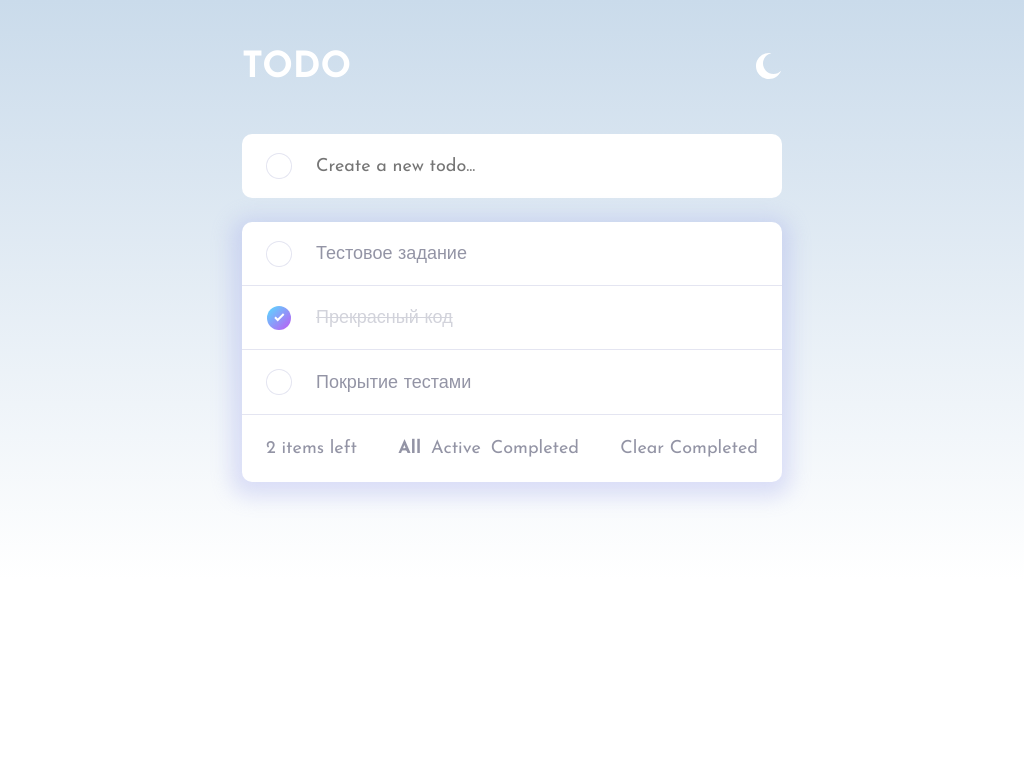
Redux store created from the reducer › AND when a new todo is added › THEN the todo is visible
Type "My first test todo" into the field with test id "input" at coordinates (537, 166), box [316, 156, 758, 176]
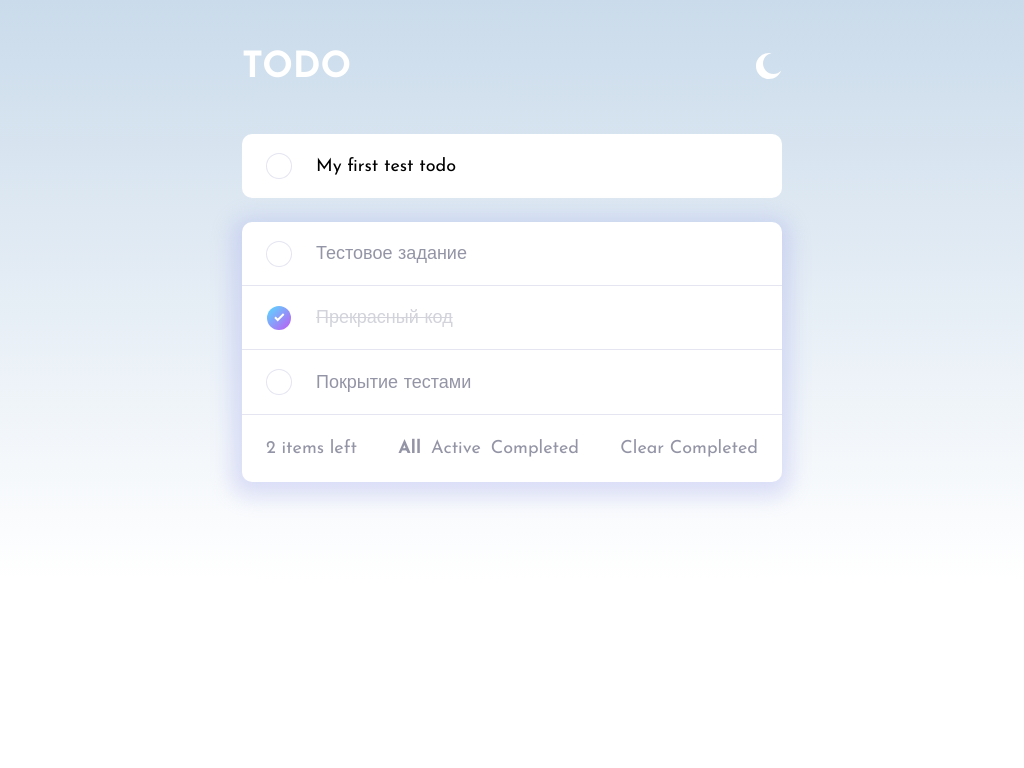
Submit the form with test id "input-form", box [316, 156, 758, 176]
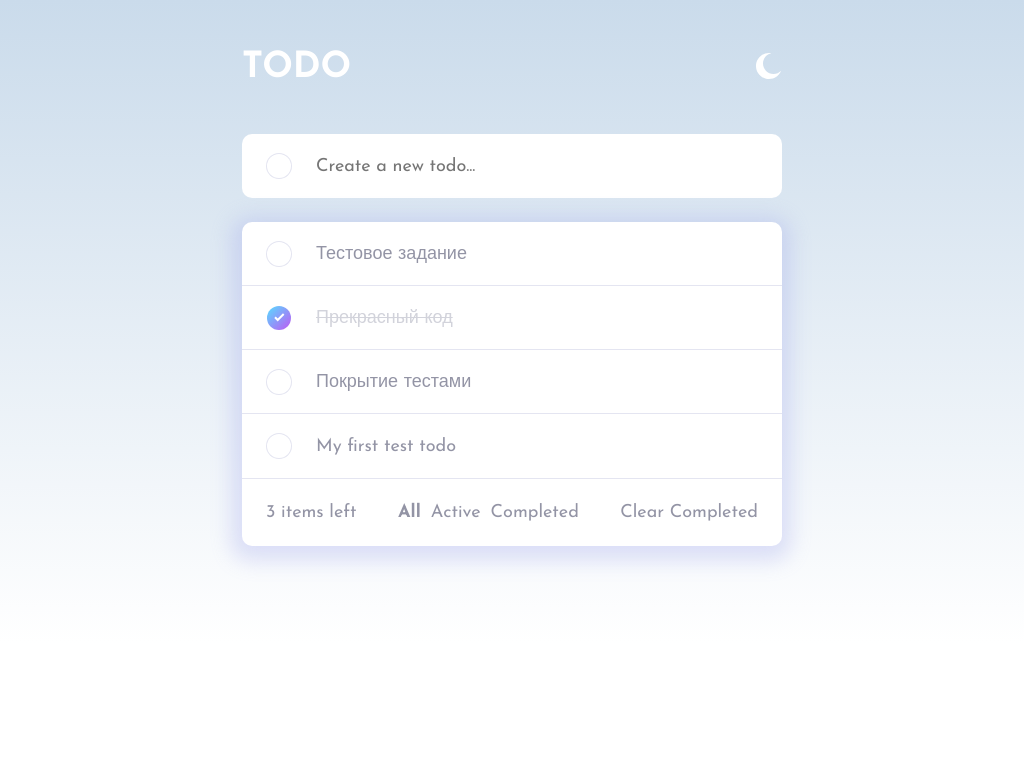
Expected: the text "My first test todo" is shown, [316, 436, 456, 456]
